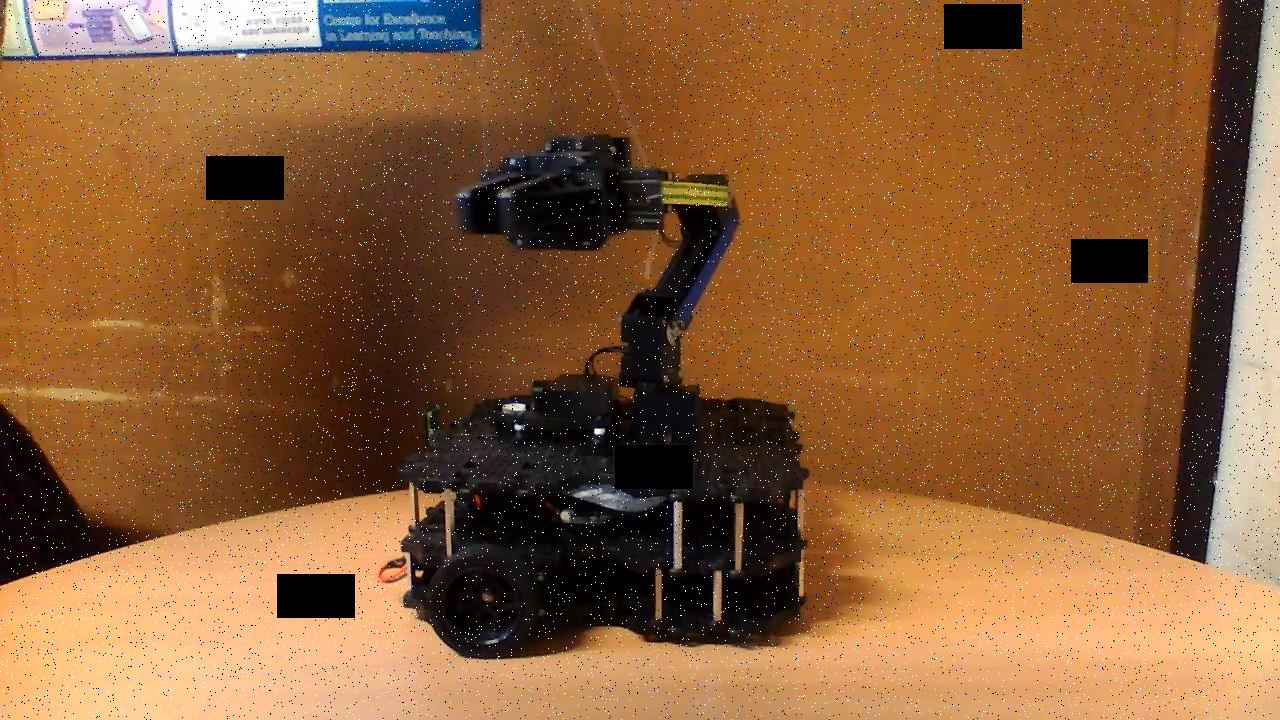Arm: (618, 211, 743, 349)
Hand: (451, 131, 671, 254)
Wrist: (651, 169, 736, 212)
base: (372, 368, 813, 662)
